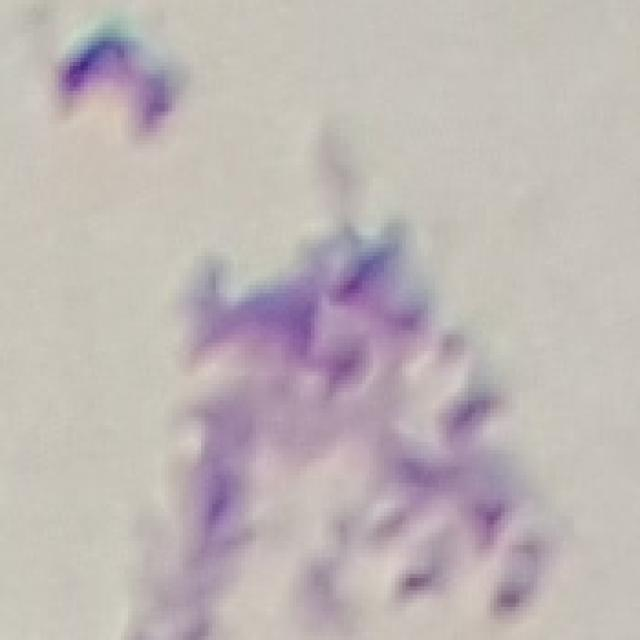non-sperm: (166, 228, 514, 560)
